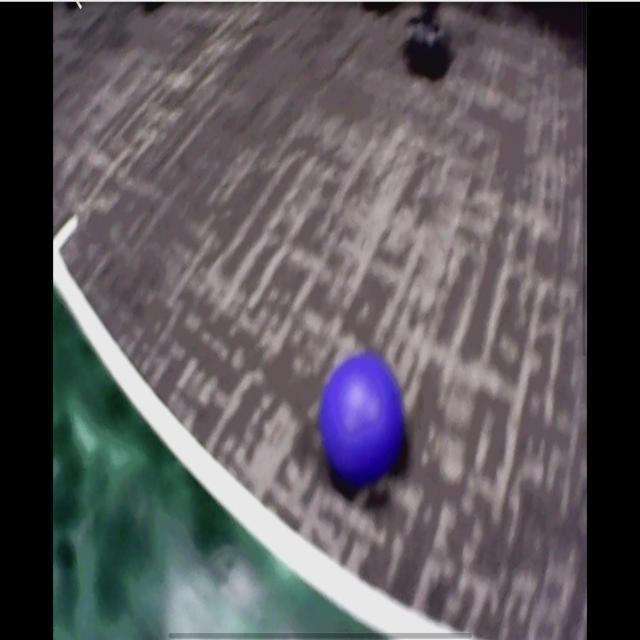ball: (322, 354, 404, 484)
